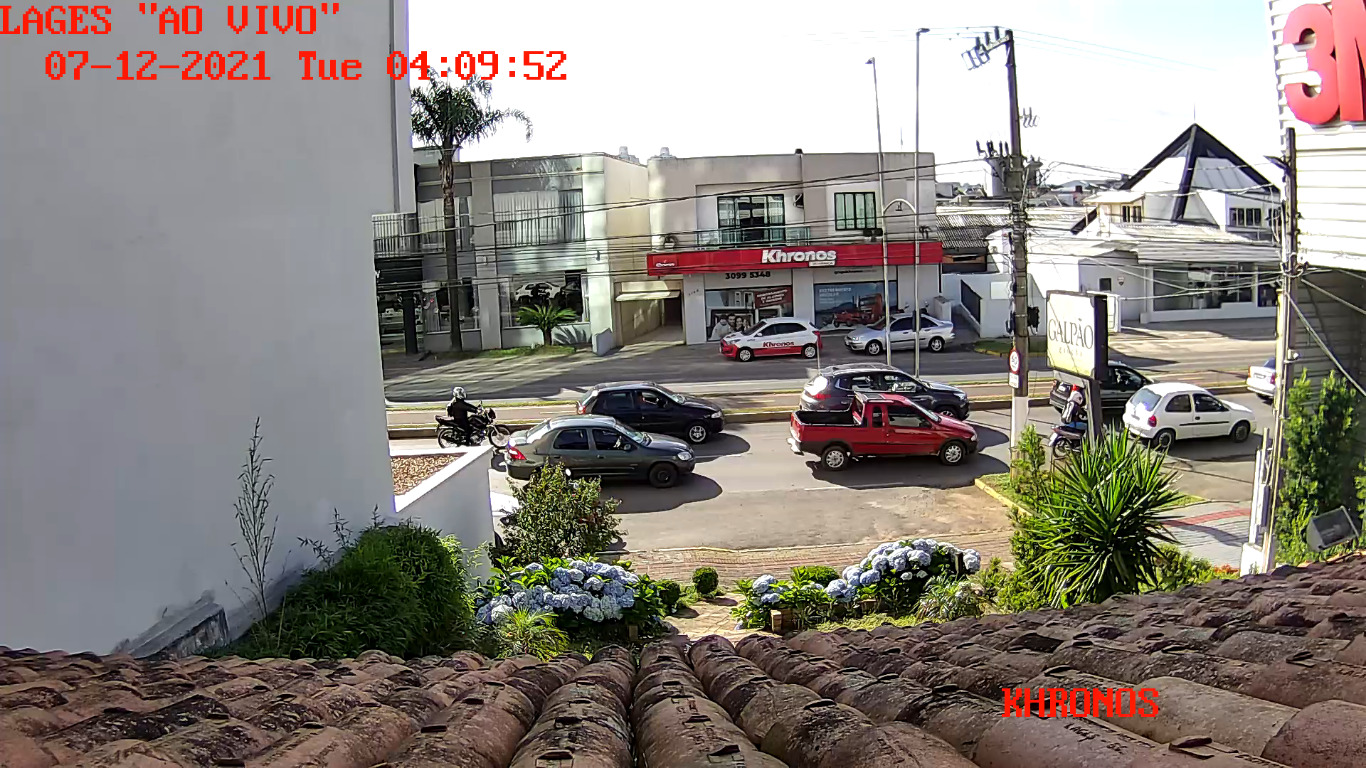car: (786, 391, 978, 469), (506, 413, 694, 489), (575, 378, 724, 443)
